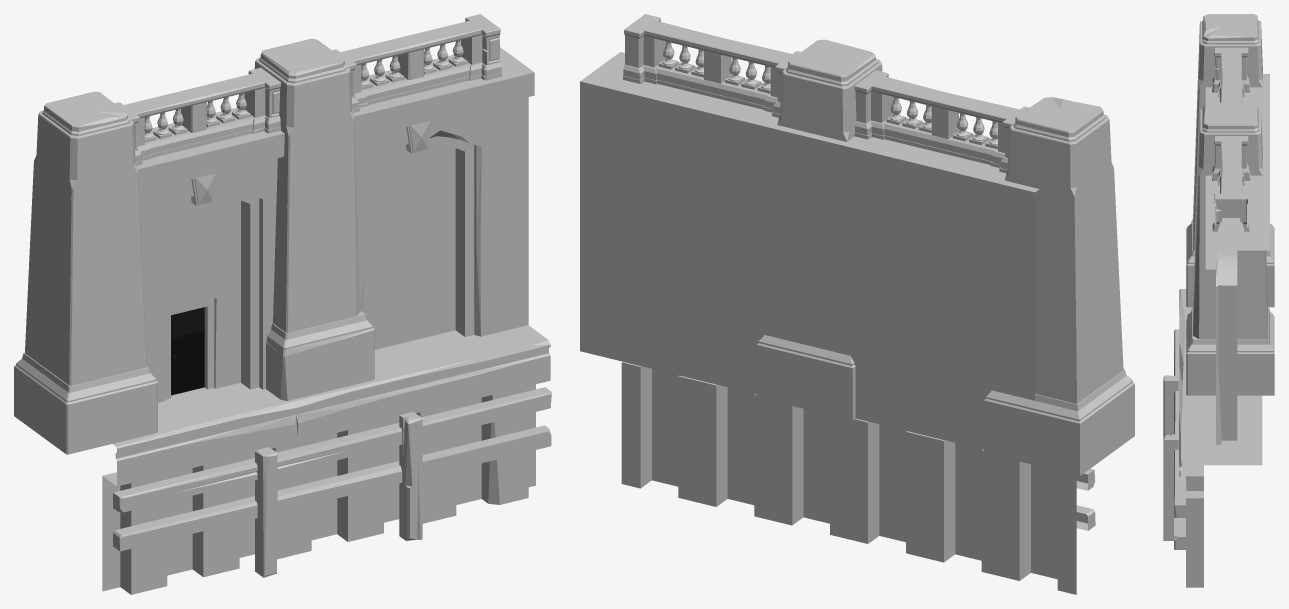
Rendered from Bridge_Wall02.fbx.
3 renders of one model, left to right at view 1: azimuth 30°, elevation 25°; view 2: azimuth 150°, elevation 25°; view 3: azimuth 270°, elevation 25°, orthographic. The views are drawn at different scales.
Visible parts, largest first — view 1: SM_City_Bridge_Wall_01a.mo; view 2: SM_City_Bridge_Wall_01a.mo; view 3: SM_City_Bridge_Wall_01a.mo.
Boxes of the visible parts, x1,y1,x2,y2 form: SM_City_Bridge_Wall_01a.mo: (14,14,551,594); SM_City_Bridge_Wall_01a.mo: (580,14,1134,594); SM_City_Bridge_Wall_01a.mo: (1163,14,1274,587).
Size of the model in its own units: 1327 by 1251 by 320.
